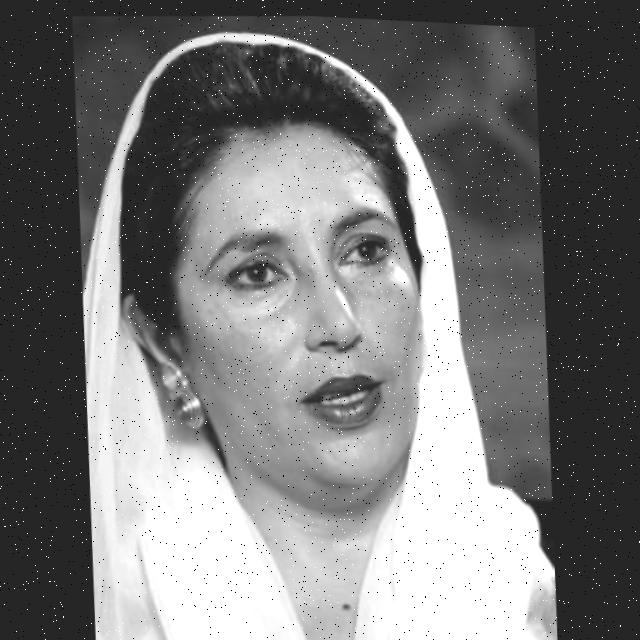face: (110, 130, 467, 508)
